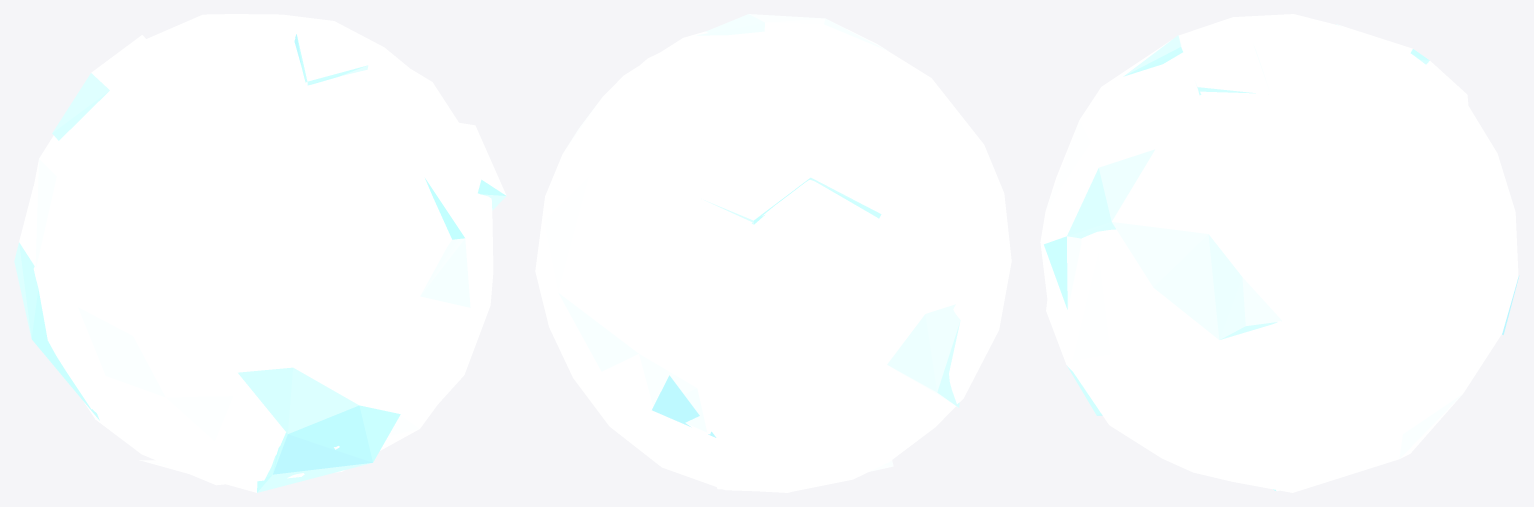
The model's file is star1.glb.
3 views of the same model, side by side, from view 1: azimuth 30°, elevation 25°; view 2: azimuth 150°, elevation 25°; view 3: azimuth 270°, elevation 25° (orthographic).
Parts seen in each view (by area): view 1: star1; view 2: star1; view 3: star1.
Boxes of the visible parts, left/top/right/bottom form: star1: left=14, top=14, right=506, bottom=492; star1: left=535, top=14, right=1011, bottom=492; star1: left=1040, top=14, right=1519, bottom=492.
Bounding box in the file's own units: 6.19 × 6.23 × 6.2.
1 material, 1 textured.
